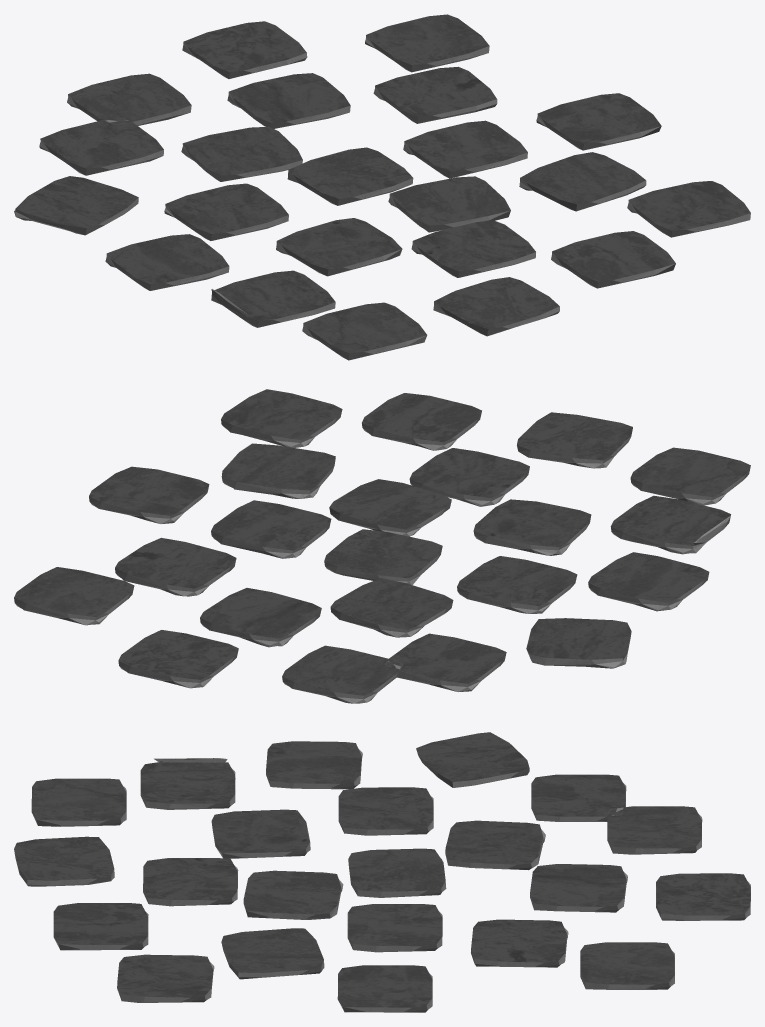
Rendered from ROCK D.fbx.
3 renders of one model, top to bottom at view 1: azimuth 30°, elevation 25°; view 2: azimuth 150°, elevation 25°; view 3: azimuth 270°, elevation 25°, orthographic.
Parts seen in each view (by area): view 1: ROCK D; view 2: ROCK D; view 3: ROCK D.
Part boxes in pixels (<box>): ROCK D: <box>14,14,750,360</box>; ROCK D: <box>14,389,750,703</box>; ROCK D: <box>14,732,750,1012</box>.
Bounding box in the file's own units: 5.07 × 0.1155 × 5.73.
